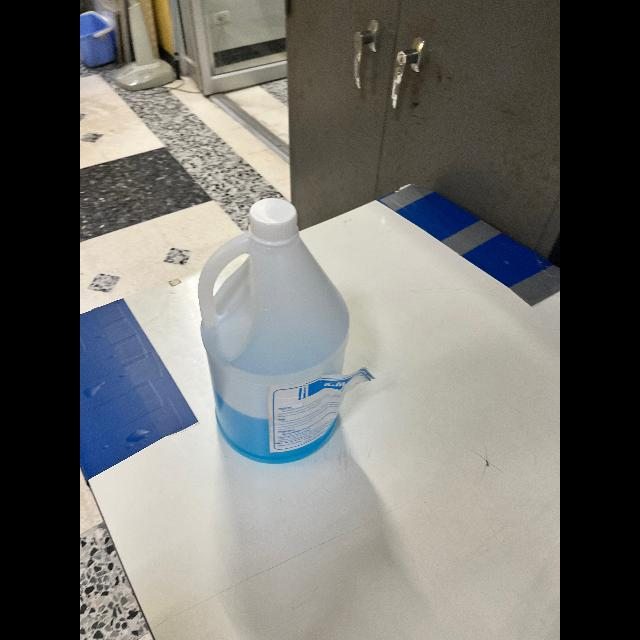chemical_plastic_gallon: (190, 191, 352, 465)
